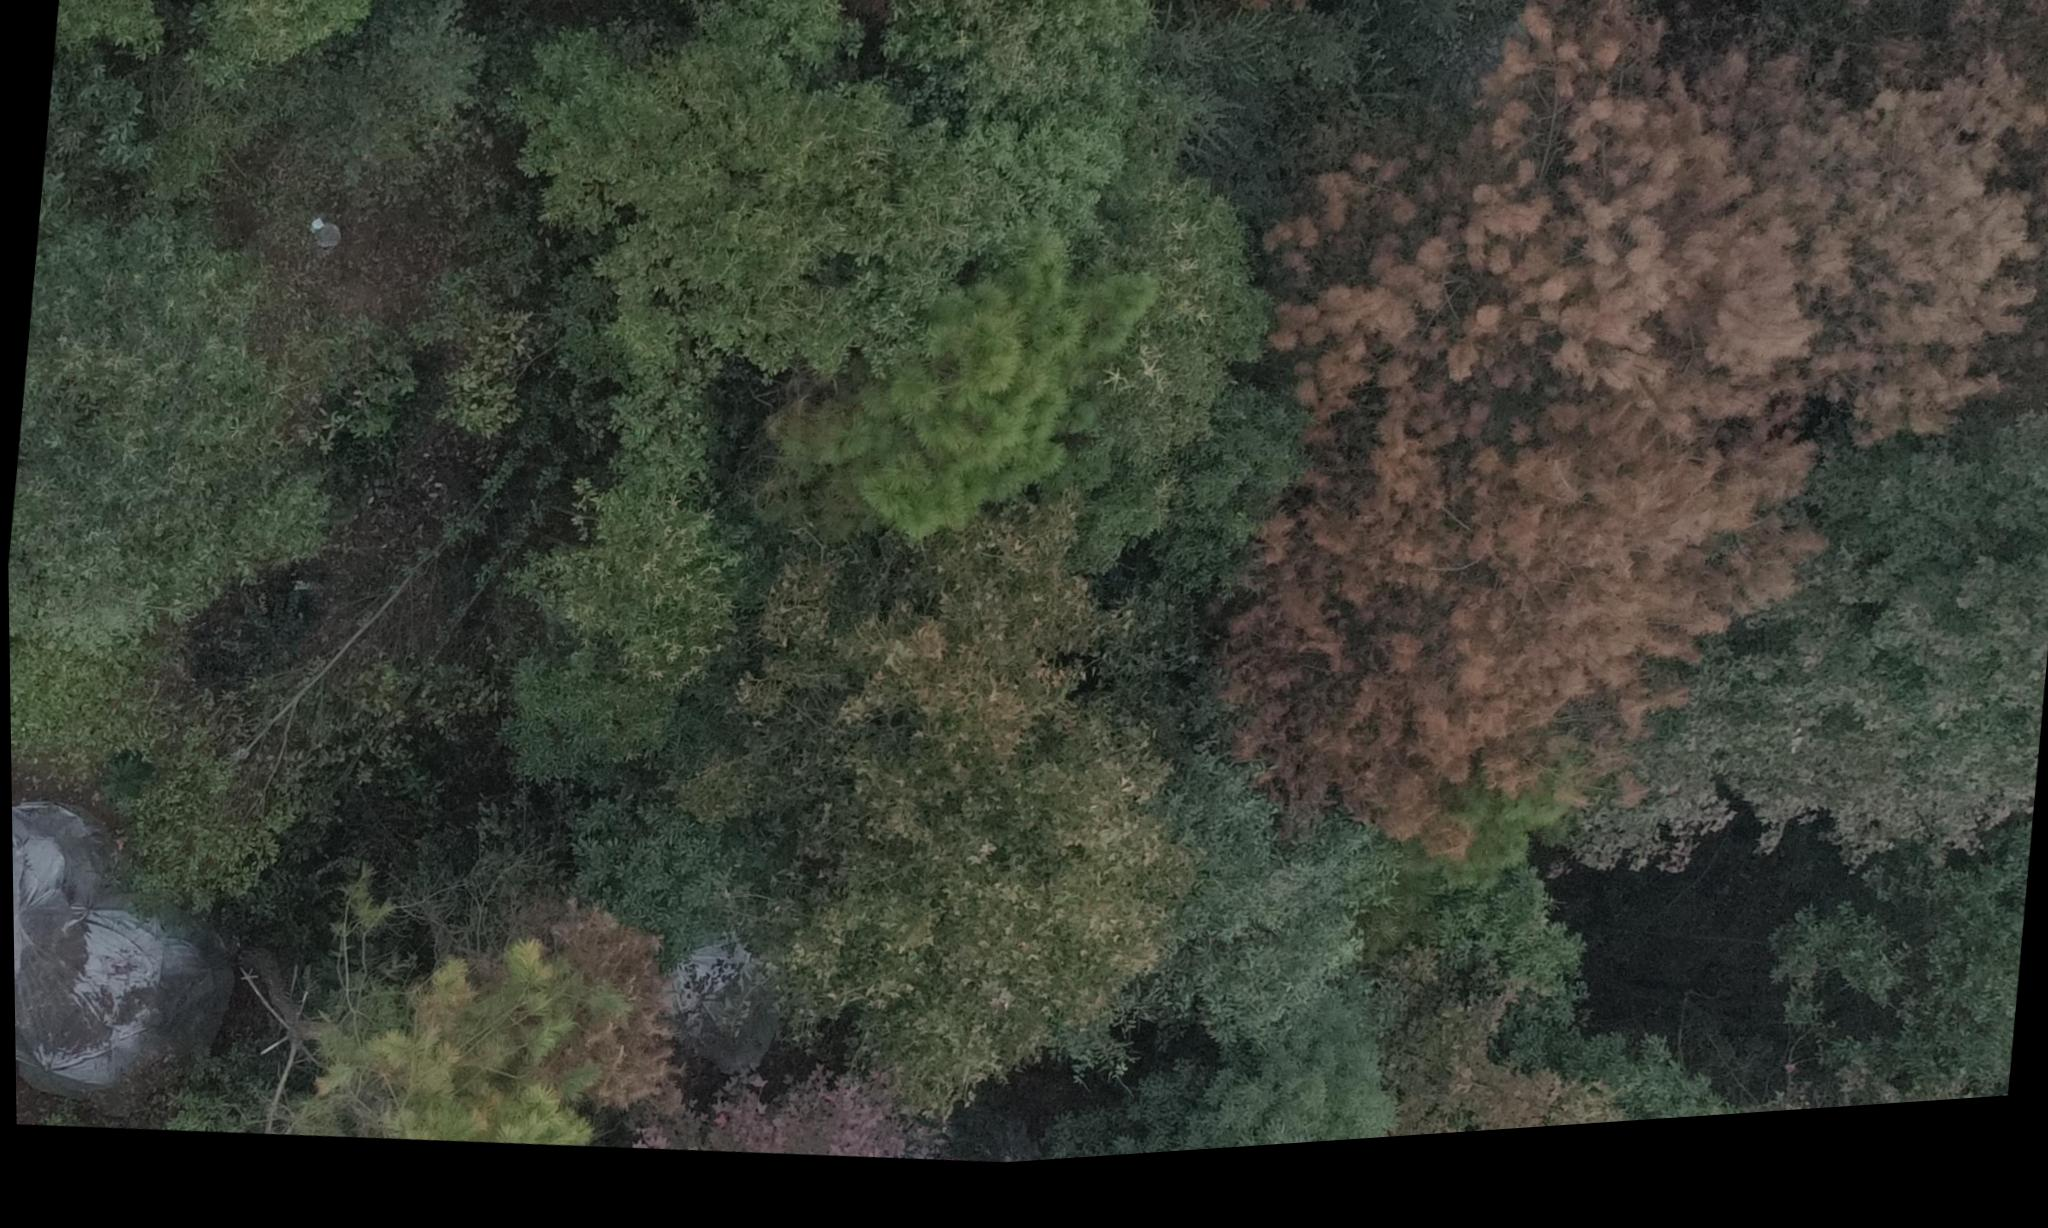heavy: (1168, 0, 2048, 928)
light: (345, 924, 623, 1153)
